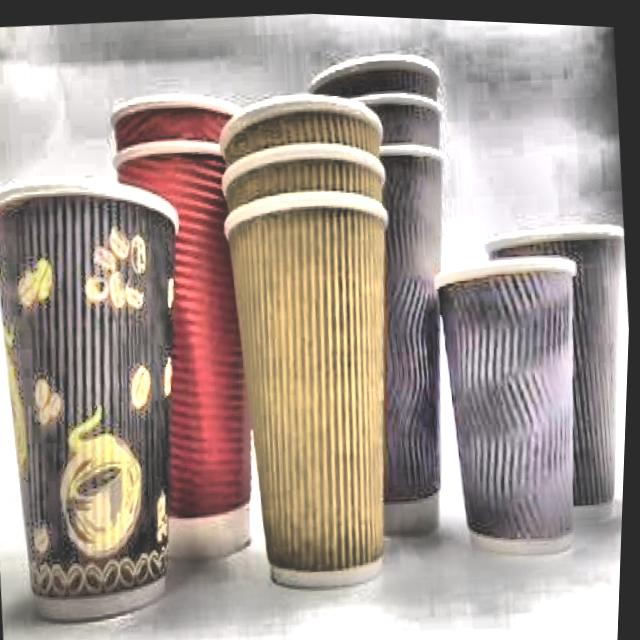Cup: (200, 76, 422, 614), (89, 81, 290, 577), (0, 172, 211, 637), (285, 40, 481, 539), (423, 248, 595, 562), (473, 207, 634, 527)
